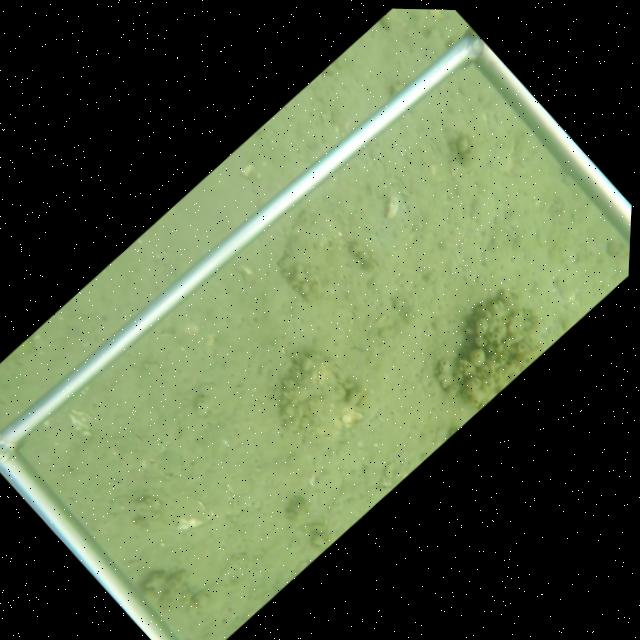Oyster-Indeterminate: (272, 205, 360, 304), (284, 354, 366, 439)
